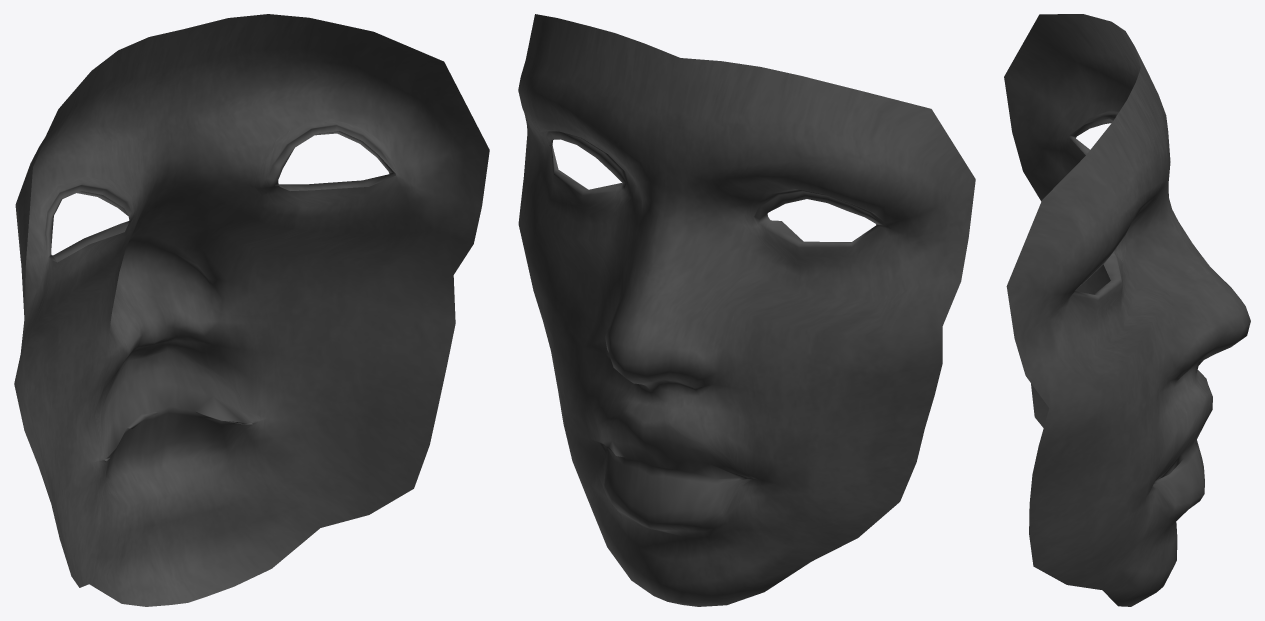
File: avatar.obj
The picture shows the model from 3 angles, left to right: view 1: azimuth 30°, elevation 25°; view 2: azimuth 150°, elevation 25°; view 3: azimuth 270°, elevation 25°; orthographic projection. The views are drawn at different scales.
Parts seen in each view (by area): view 1: instance_0_ID4.001; view 2: instance_0_ID4.001; view 3: instance_0_ID4.001.
Part boxes in pixels (x1,y1,x2,y2): instance_0_ID4.001: [14, 14, 489, 606]; instance_0_ID4.001: [518, 14, 975, 606]; instance_0_ID4.001: [1004, 14, 1250, 606].
Size of the model in its own units: 0.723 by 0.8556 by 0.361.
1 material, 1 textured.
